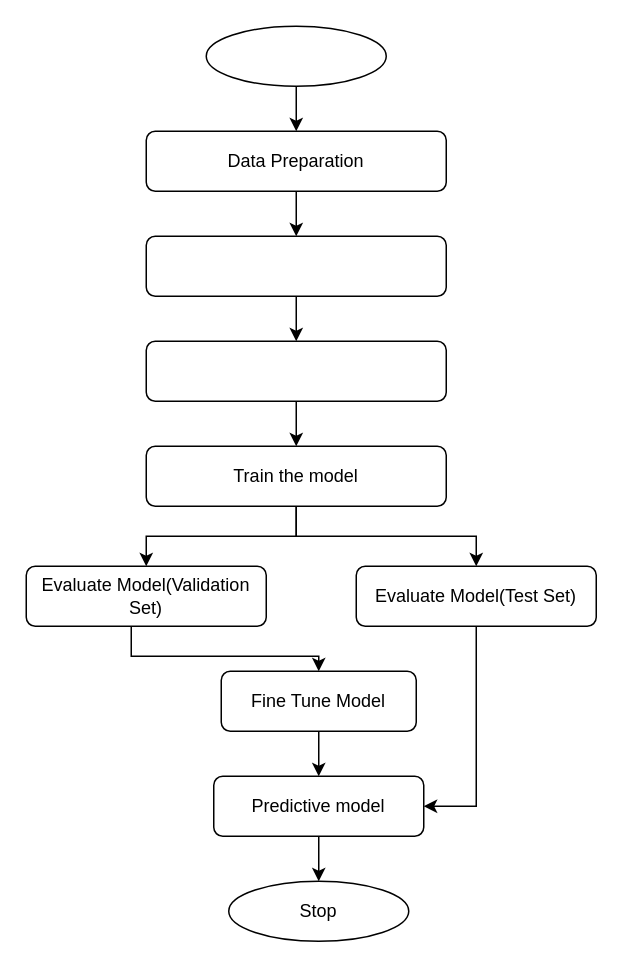
Image size: 623x968. Some labels were removed from this diagram. Each missing label, with the box of its shape:
Data Split (Train set 70%, Test set 30%): (145, 235, 446, 296)
Split Train Set( Train set 80%, Validation set 20%): (145, 340, 446, 401)
Start: (205, 25, 386, 86)
